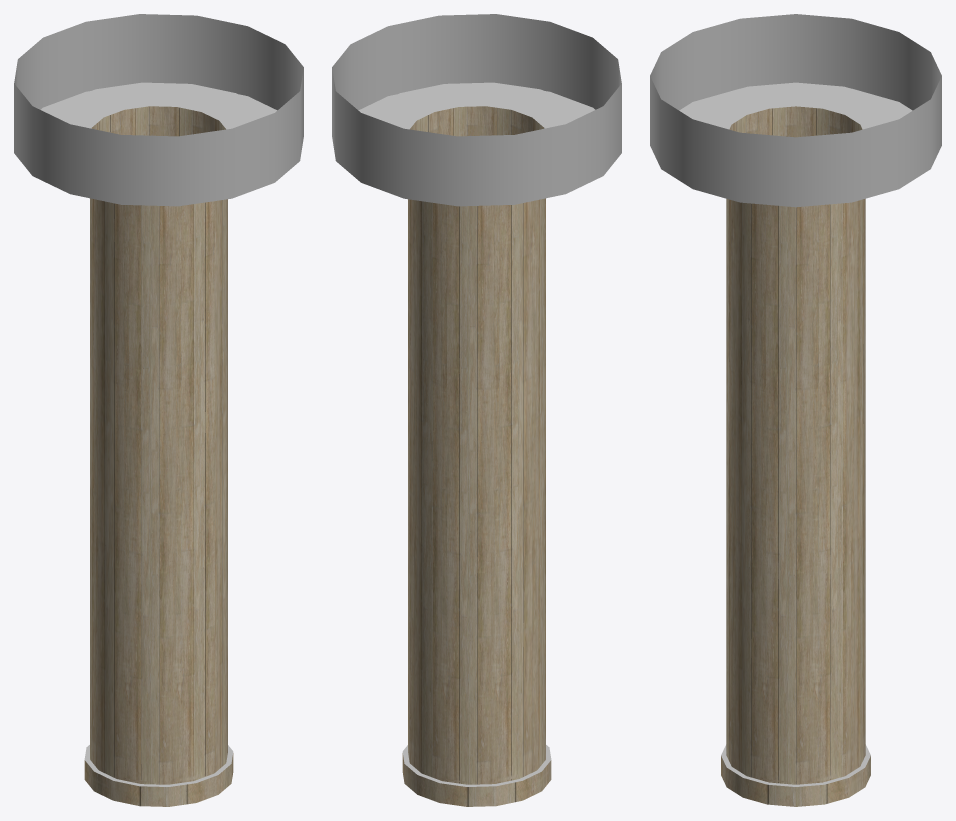
The model's file is SM_LobbyandHotel_Pillar_1.FBX.
The picture shows the model from 3 angles, left to right: view 1: azimuth 30°, elevation 25°; view 2: azimuth 150°, elevation 25°; view 3: azimuth 270°, elevation 25°; orthographic projection.
Parts seen in each view (by area): view 1: SM_LobbyandHotel_Pillar_1; view 2: SM_LobbyandHotel_Pillar_1; view 3: SM_LobbyandHotel_Pillar_1.
Boxes of the visible parts, box(x1,y1,x2,y2) form: SM_LobbyandHotel_Pillar_1: box(14, 14, 303, 806); SM_LobbyandHotel_Pillar_1: box(332, 14, 621, 806); SM_LobbyandHotel_Pillar_1: box(650, 14, 941, 806).
Size of the model in its own units: 2.73 by 7.23 by 2.73.
